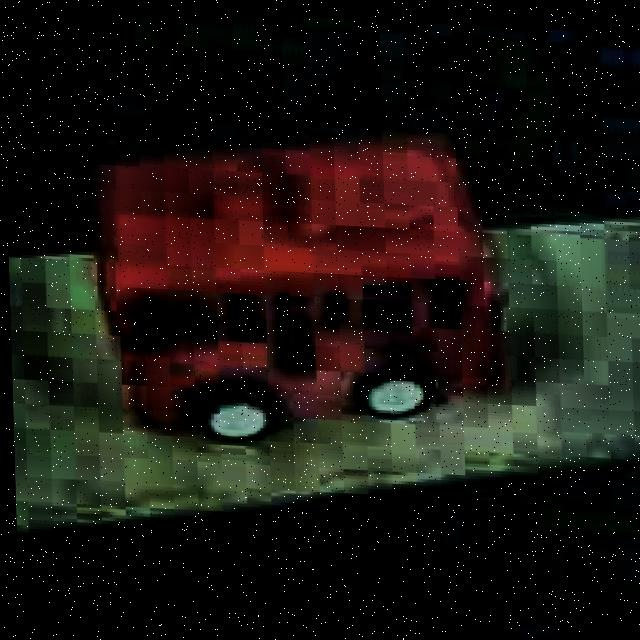bus: (89, 102, 510, 458)
